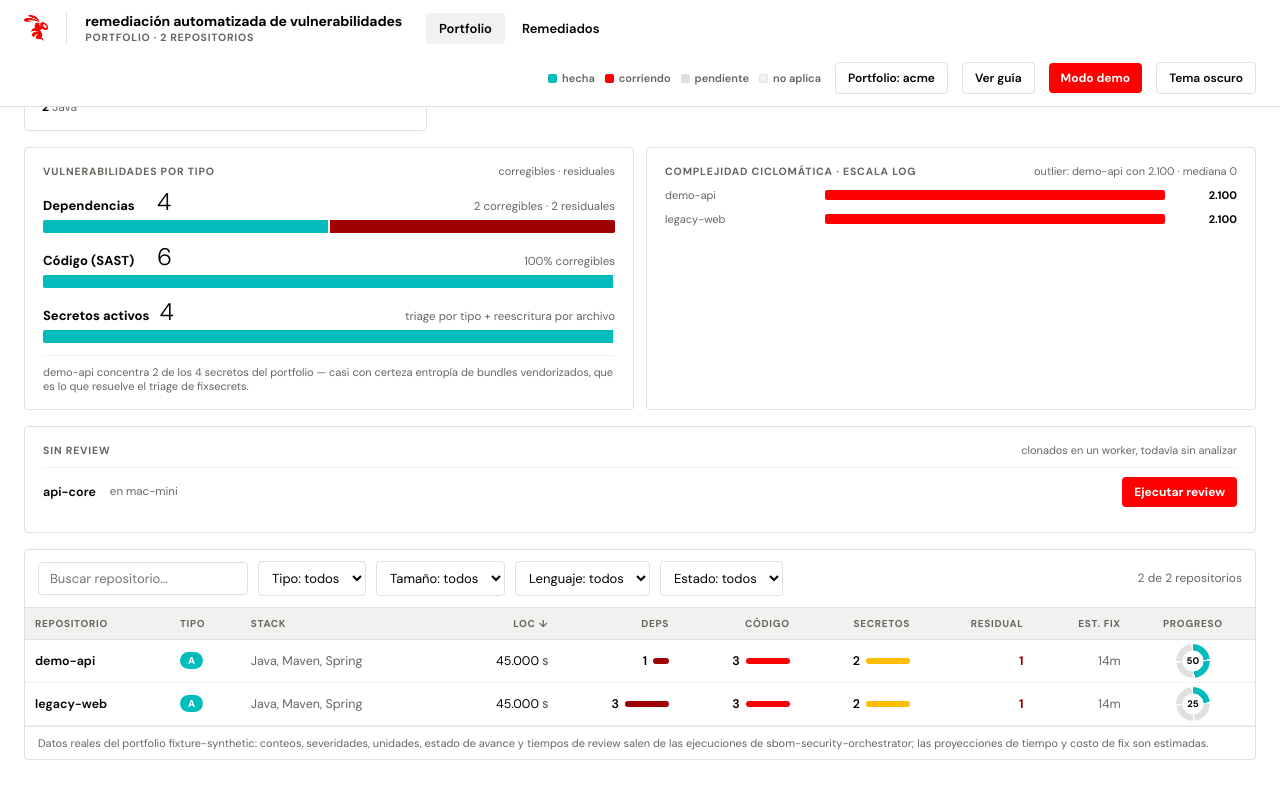
disparo del review › al terminar bien recarga el dataset y el repo sale de «Sin review»
(page scrolled)
Expected: the field with placeholder "Buscar repositorio…" is shown, [38, 562, 248, 595]
Click the button "Ejecutar review": [1180, 492] box [1122, 477, 1237, 507]
Wait 6000 ms
(page scrolled)
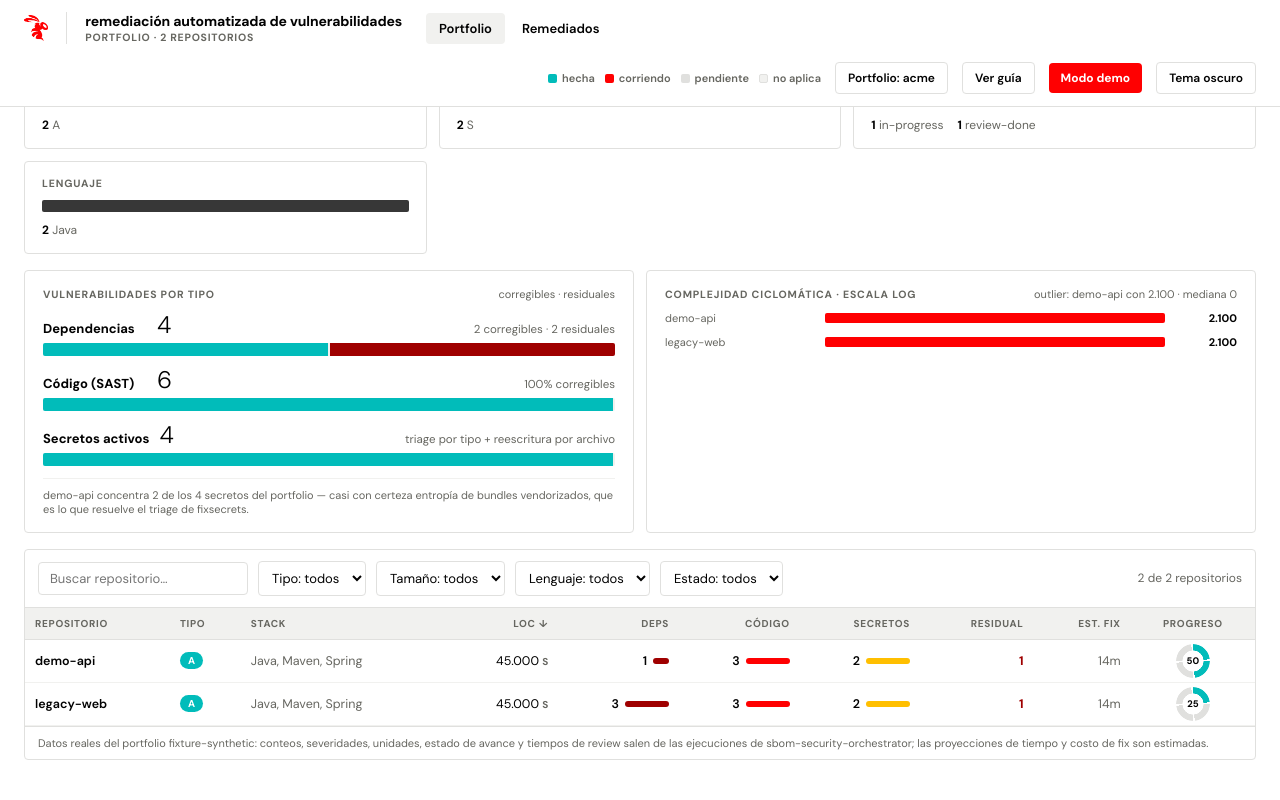
Result: the text "Sin review" is gone
